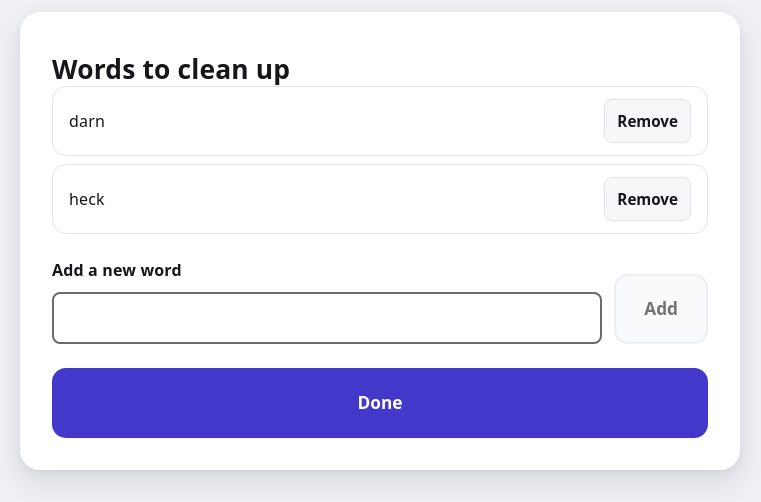
Test: WordsScreen › Remove sends the whole updated array back
What coordinates should you click on to do the following:
click the button "Remove" in the row of "darn"
I would click on:
 (648, 121)
Its box is [604,99,691,143].
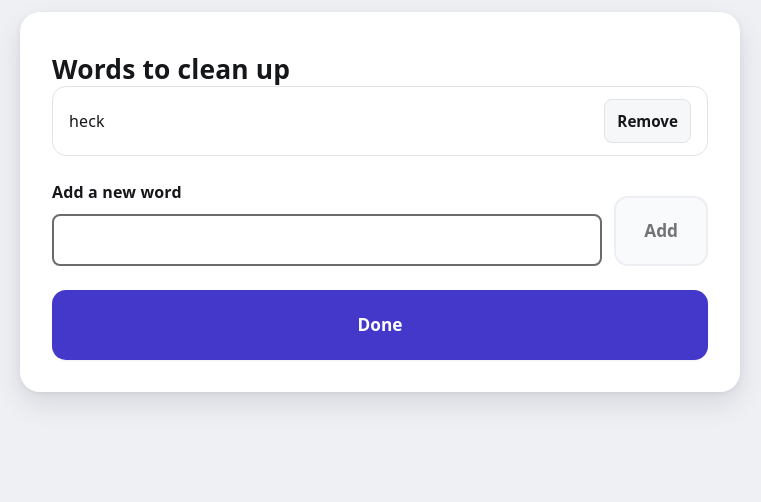
Result: the text "darn" is gone
